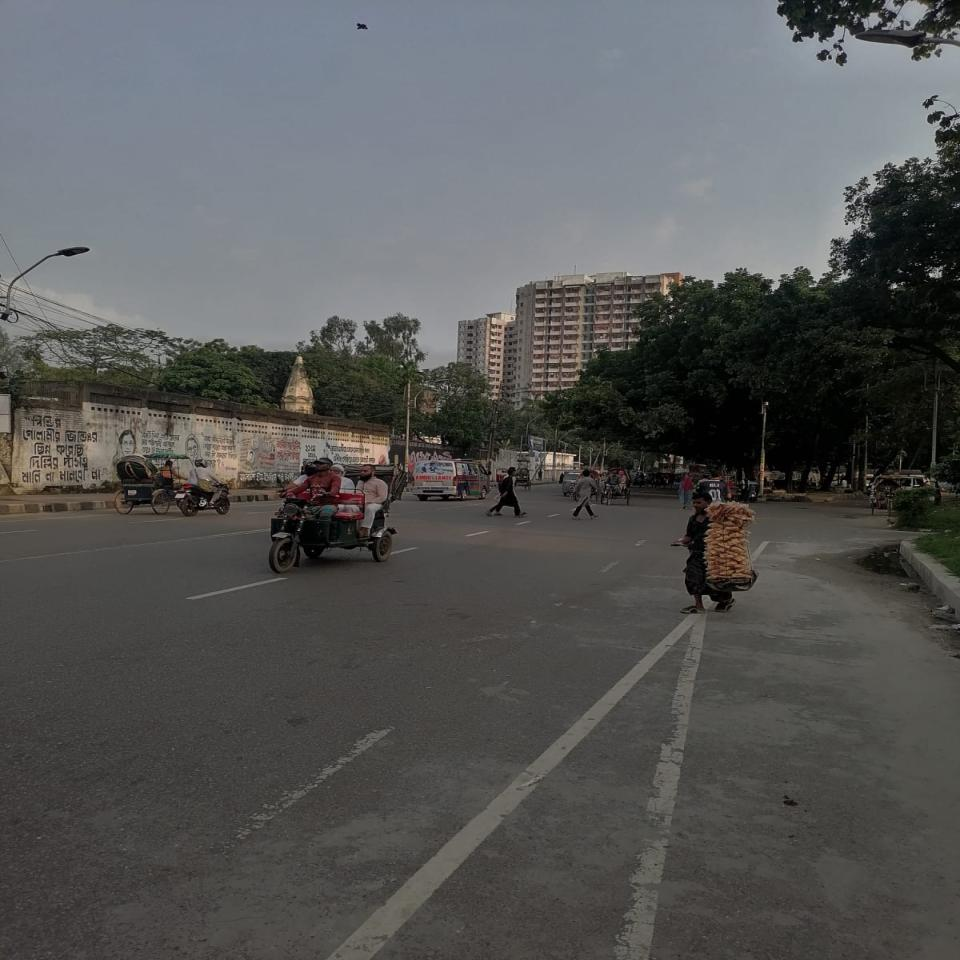person: (487, 467, 526, 518), (572, 469, 598, 519)
